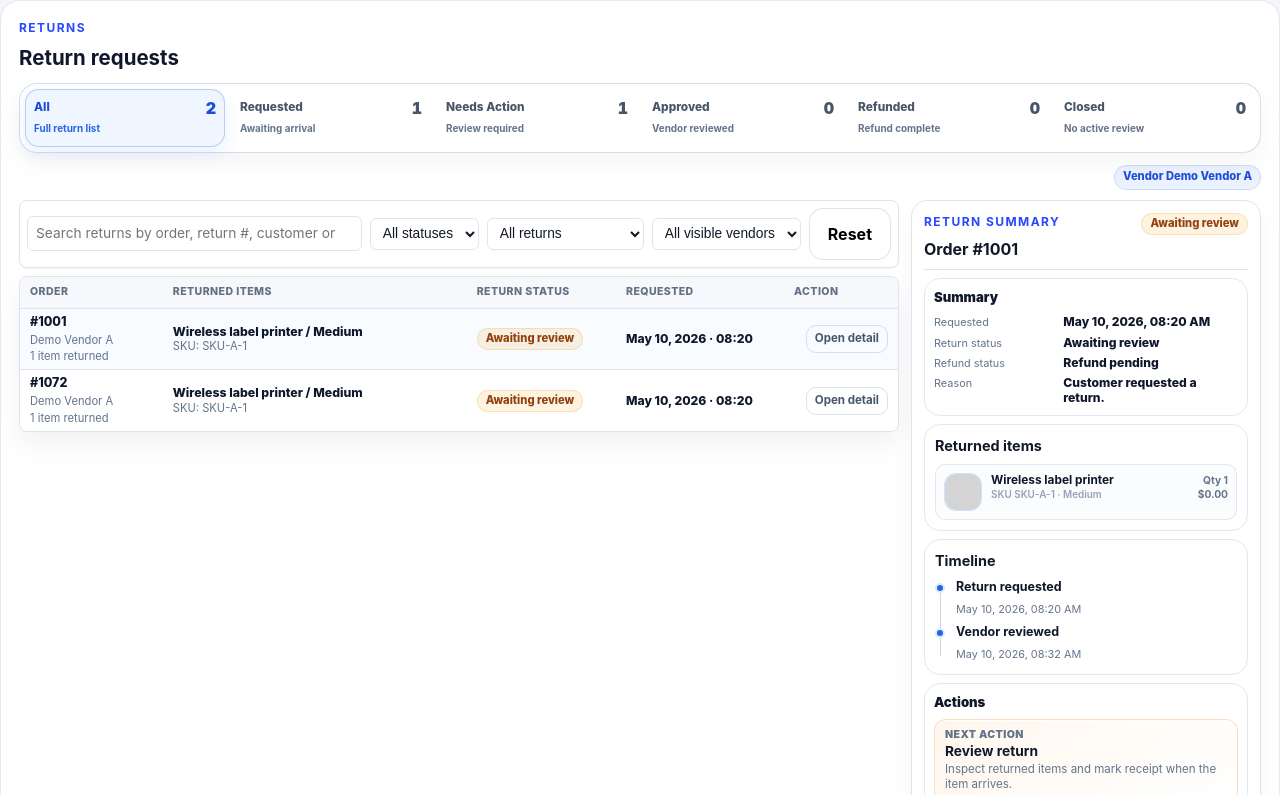
ReturnsPage control center › separates pre-arrival requested returns from received returns needing action
This screenshot has width=1280, height=795.
expect the text "#1001" is shown: met, box [30,314,66,329]
expect the text "#1072" is shown: met, box [30,375,67,390]
Click the button "Requested 1 Awaiting arrival" at (331, 118), box [231,89,431,147]
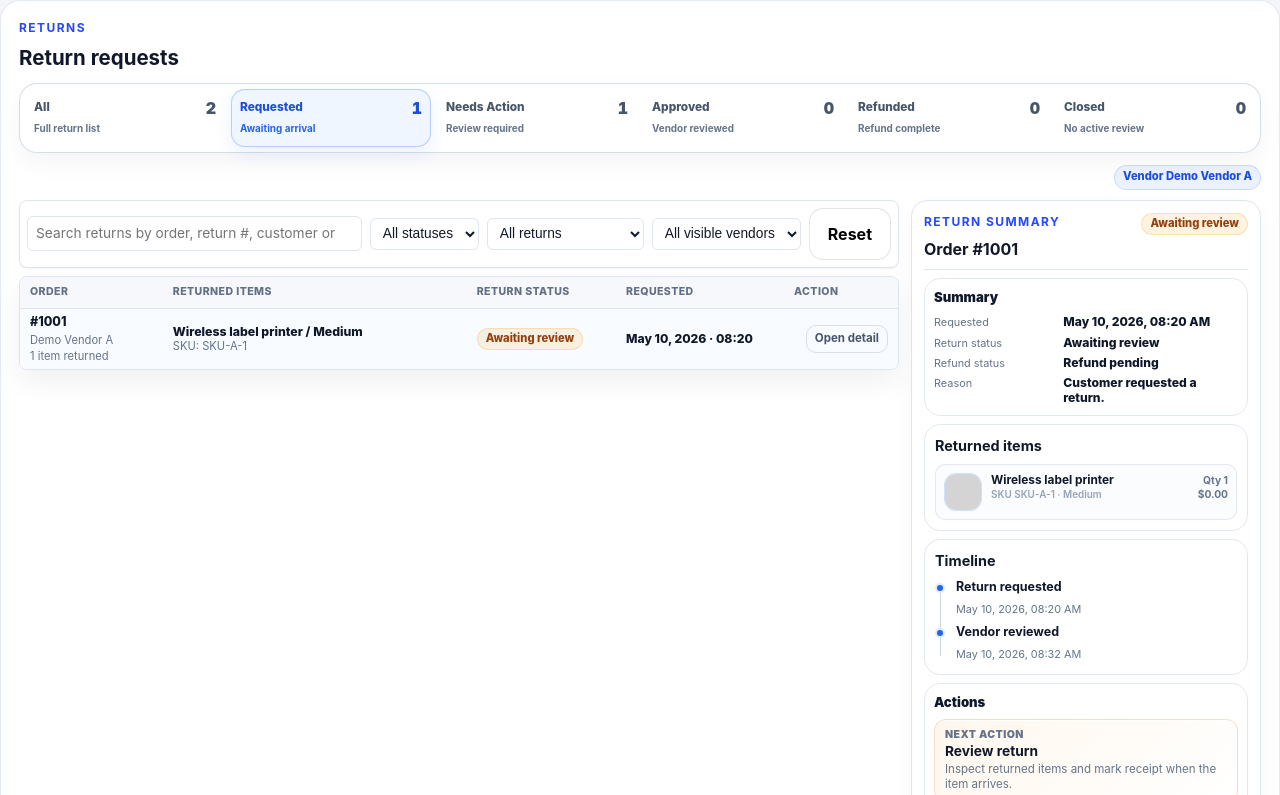
expect the text "#1001" is shown: met, box [30,314,66,329]
expect the button "#1072" is gone: met
Click the button "Needs Action 1 Review required" at (537, 118), box [437,89,637,147]
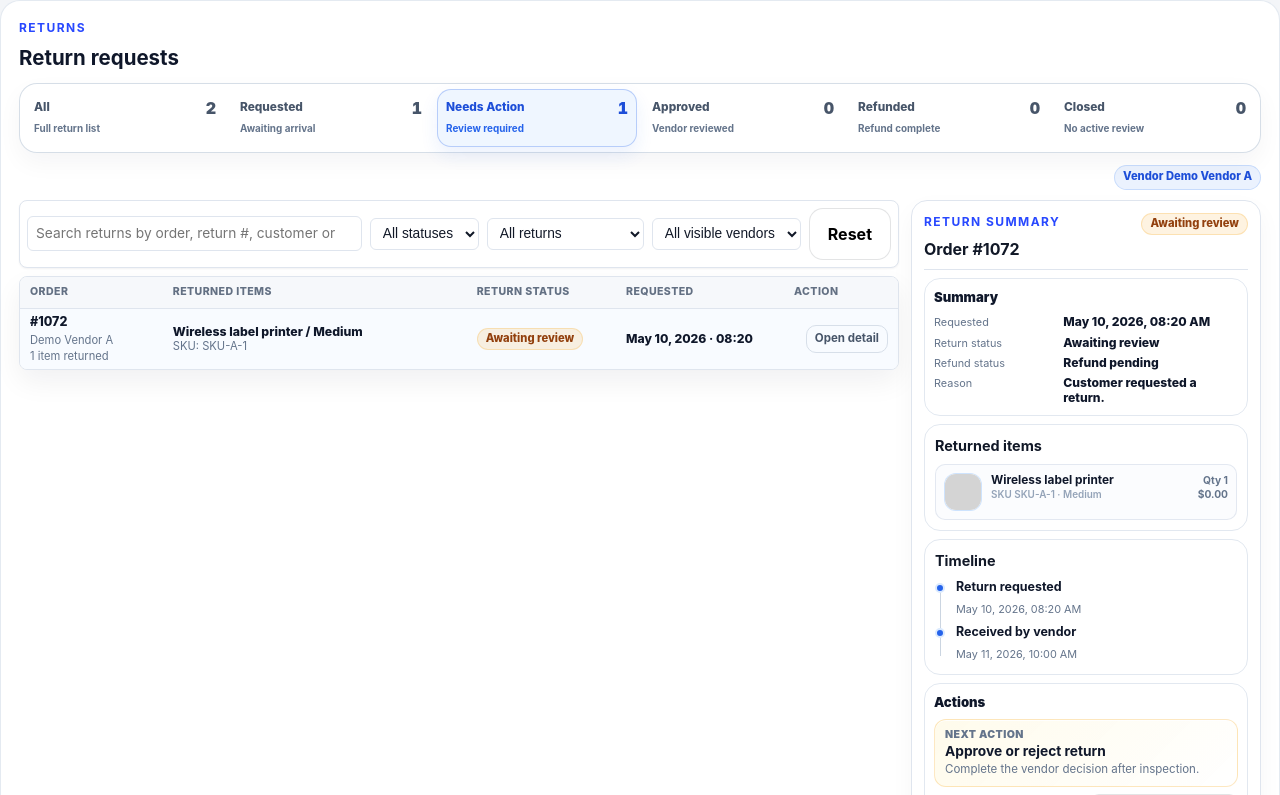
expect the text "#1072" is shown: met, box [30,314,67,329]
expect the button "#1001" is gone: met
